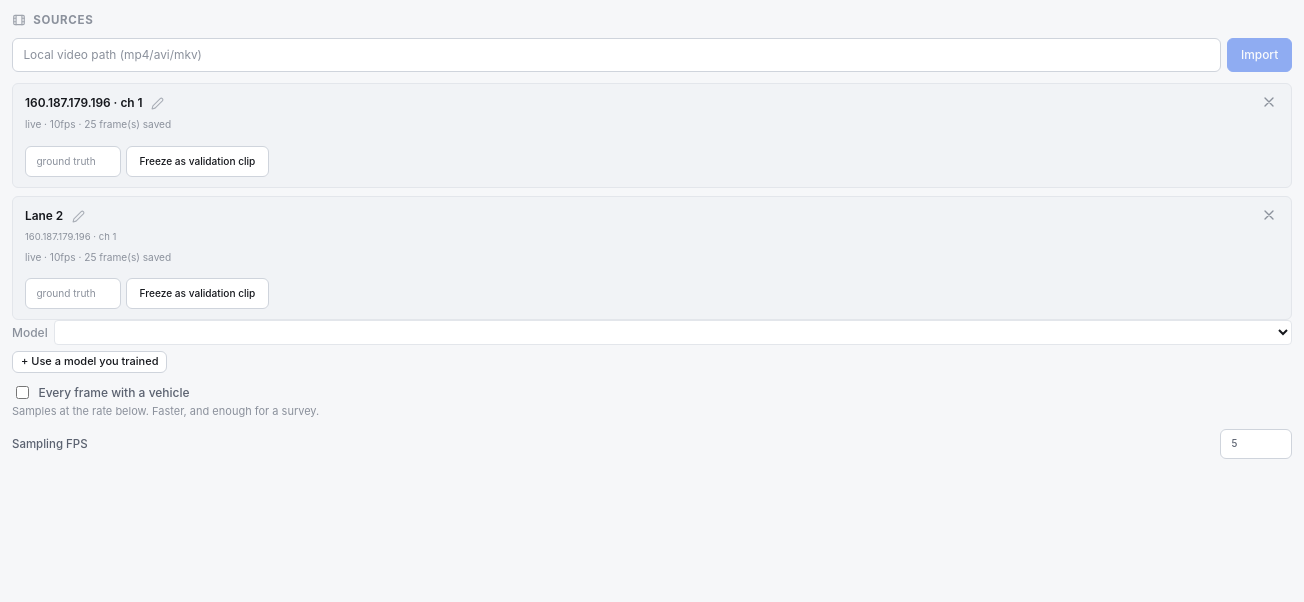
Test: removing a source from a long list › asks right under the source, not after the whole list
The width and height of the screenshot is (1304, 602).
Click the button named "remove 160.187" at x=1269, y=102, box [1254,91,1284,113]
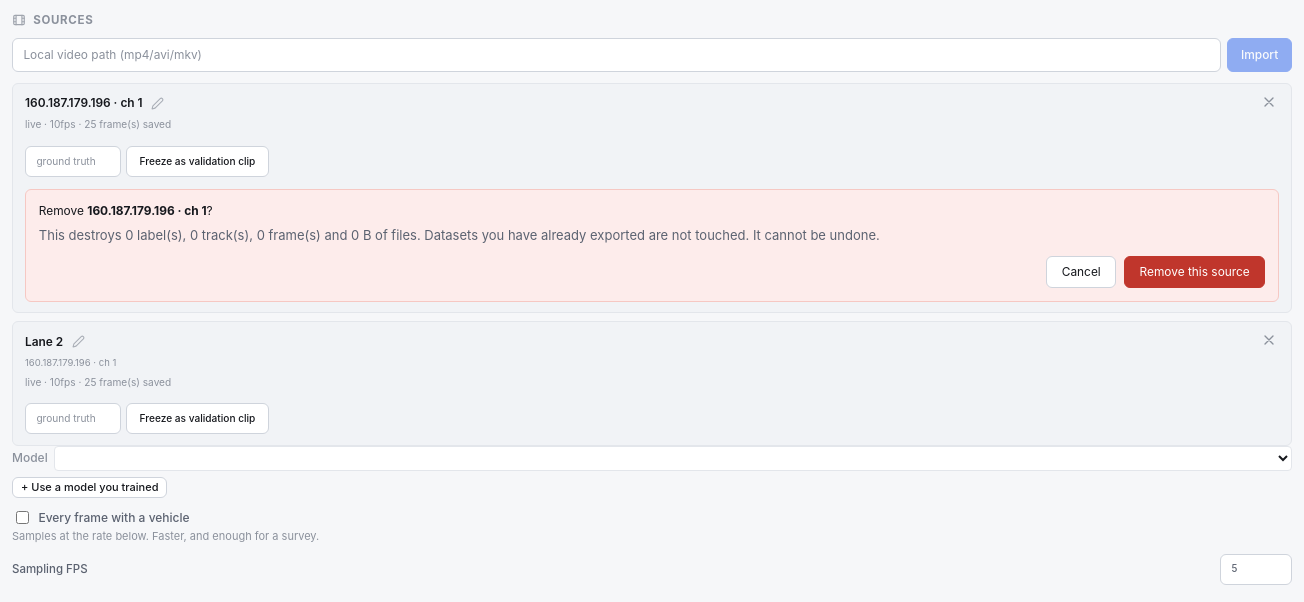
expect the button "Remove this source" is shown: met, box [1124,256,1265,288]
